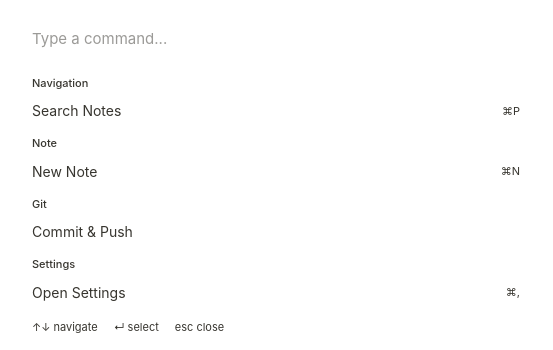
Test case: CommandPalette › shows "No matching commands" when no results
The image size is (553, 350).
In the field with placeholder "Type a command...": (276, 39) [16,16,536,62], type "zzzzzzz"
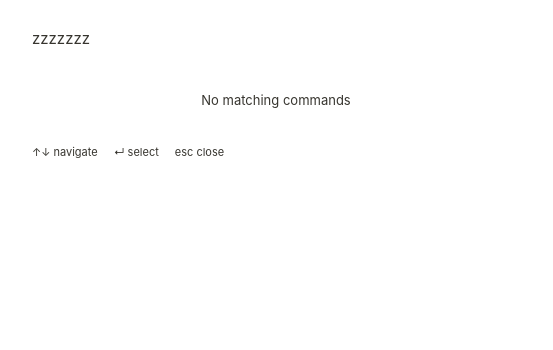
Expected: the text "No matching commands" is shown, [201,92,351,108]
